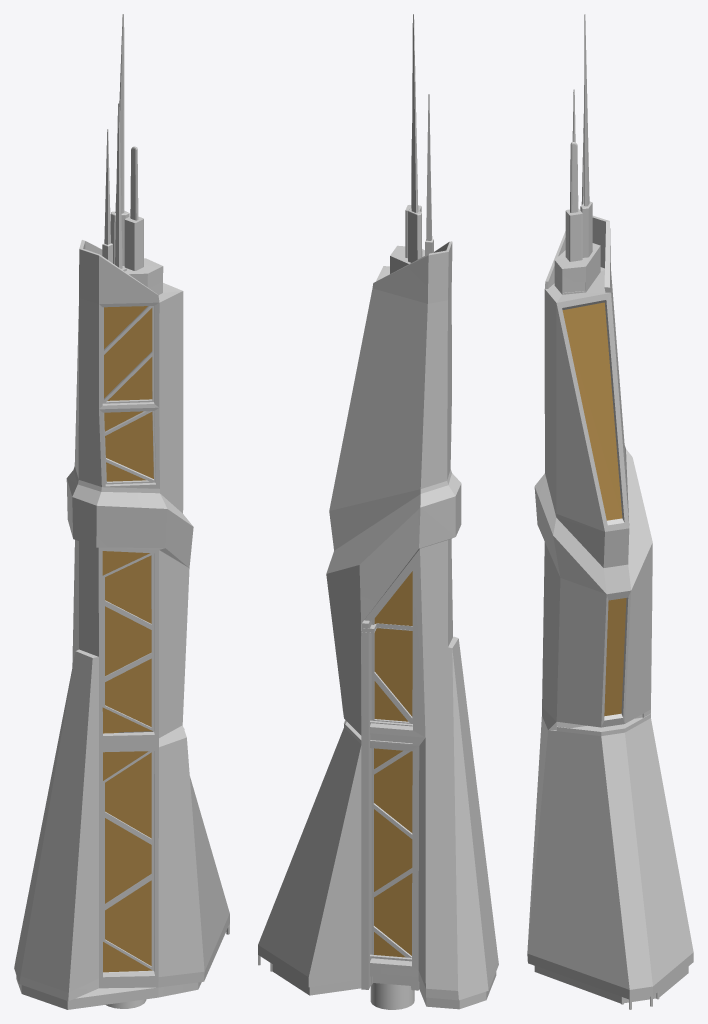
Rendered from skyscraper_2.fbx.
3 views of the same model, side by side, from view 1: azimuth 30°, elevation 25°; view 2: azimuth 150°, elevation 25°; view 3: azimuth 270°, elevation 25° (orthographic). The views are drawn at different scales.
Parts seen in each view (by area): view 1: Skyscraper 1; view 2: Skyscraper 1, Cylinder.001; view 3: Skyscraper 1.
Boxes of the visible parts, bbox=[...] form: Skyscraper 1: bbox=[14, 14, 229, 1009]; Skyscraper 1: bbox=[258, 14, 498, 1009]; Cylinder.001: bbox=[370, 983, 414, 1009]; Skyscraper 1: bbox=[527, 14, 693, 1009].
Size of the model in its own units: 3381 by 14623 by 2295.
